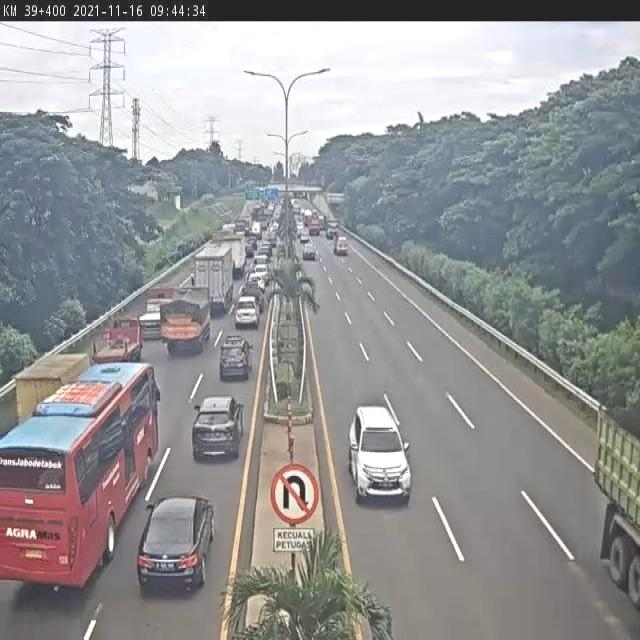Bus: (0, 358, 162, 592)
Car: (137, 494, 214, 592), (348, 404, 412, 504), (191, 394, 245, 461), (218, 335, 253, 380), (233, 296, 260, 329), (248, 271, 266, 292), (252, 264, 268, 282), (302, 244, 316, 260), (245, 242, 255, 258), (247, 234, 258, 248), (267, 232, 277, 246), (300, 232, 310, 243), (296, 222, 303, 237)
Truck: (592, 396, 640, 610), (13, 350, 94, 431), (159, 284, 213, 357), (192, 242, 236, 314), (90, 312, 146, 366), (138, 284, 176, 340), (216, 232, 248, 278), (334, 235, 348, 258), (252, 220, 263, 241), (326, 220, 338, 239), (308, 219, 320, 237), (318, 214, 324, 229)
